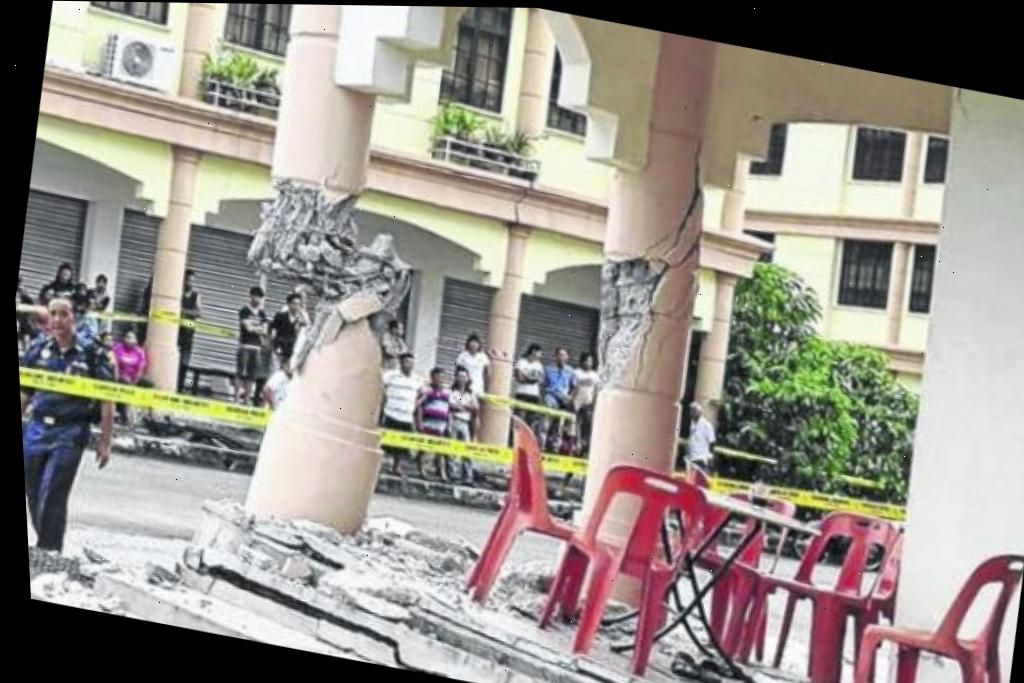spalling: (248, 179, 410, 369), (598, 256, 668, 384)
